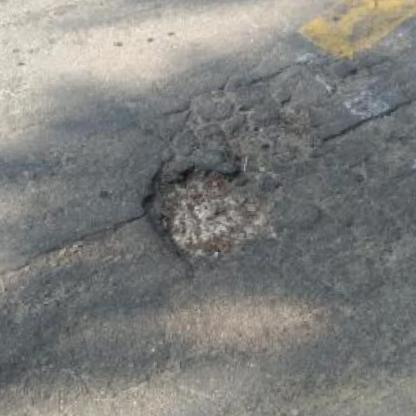pothole: (136, 155, 287, 268), (224, 109, 327, 170), (339, 54, 396, 95)
